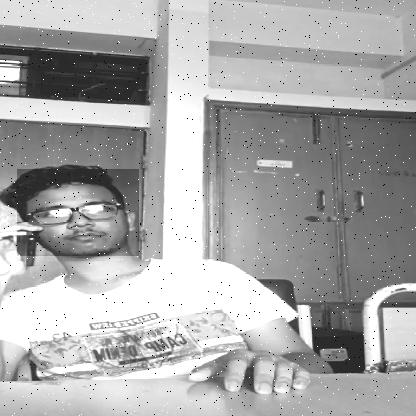Normal: (17, 169, 139, 256)
